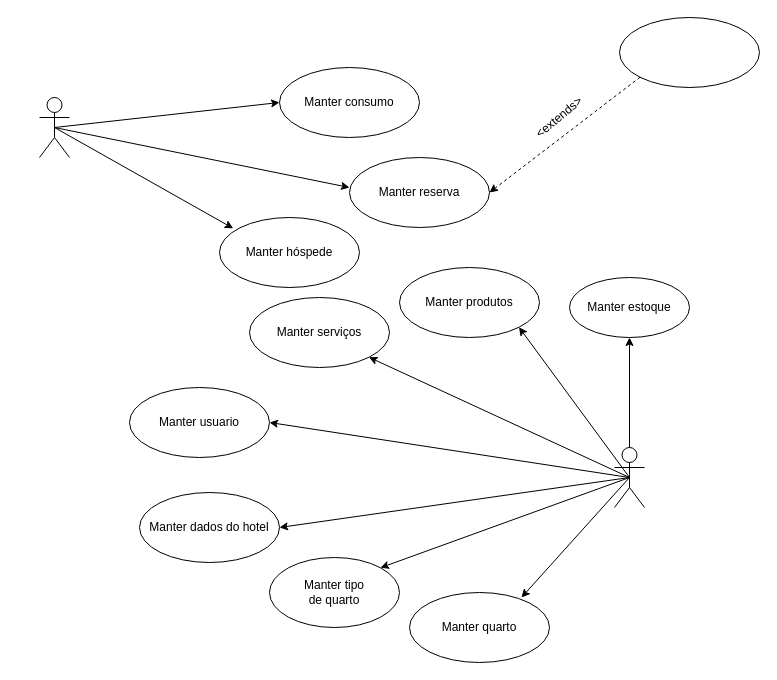
The diagram is 777 pixels wide and 680 high, and some of its shapes have lost their labels. The shapes that lost their labels are listed below. From the top down, each one's centre as x and y in pixels, then its label:
(x=689, y=52): Manter estadia
(x=54, y=127): Recepcionista
(x=629, y=477): Gerente
